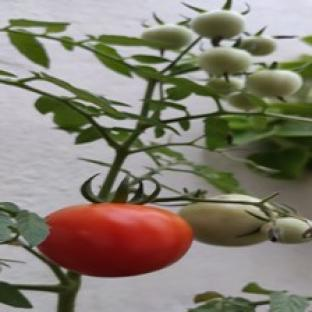Tomato: (38, 204, 192, 277), (179, 194, 267, 246), (198, 46, 252, 75), (191, 10, 245, 38), (247, 70, 302, 97), (262, 218, 311, 243), (143, 24, 192, 48), (240, 37, 277, 55), (226, 92, 259, 111), (208, 77, 243, 94)
